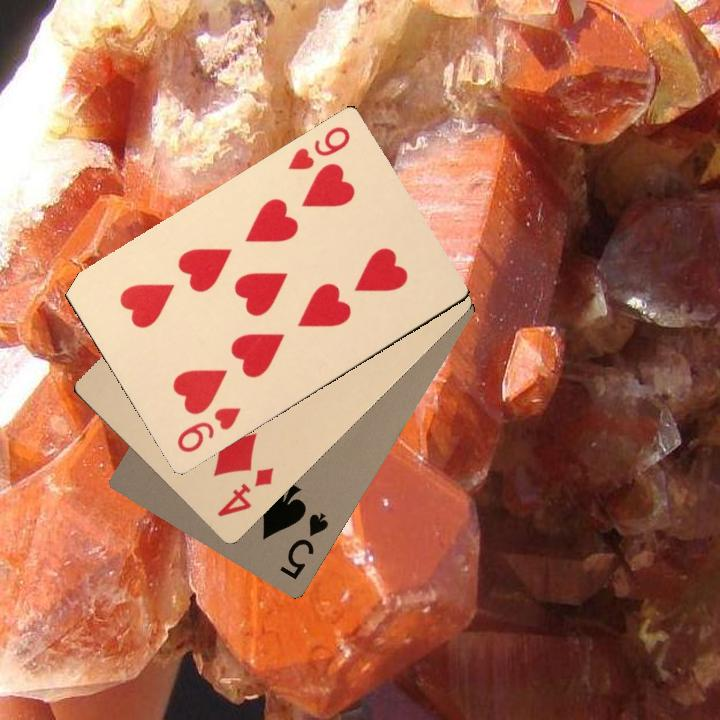4d: (213, 463, 277, 520)
5s: (276, 509, 331, 582)
9h: (172, 403, 244, 456), (283, 122, 353, 173)
